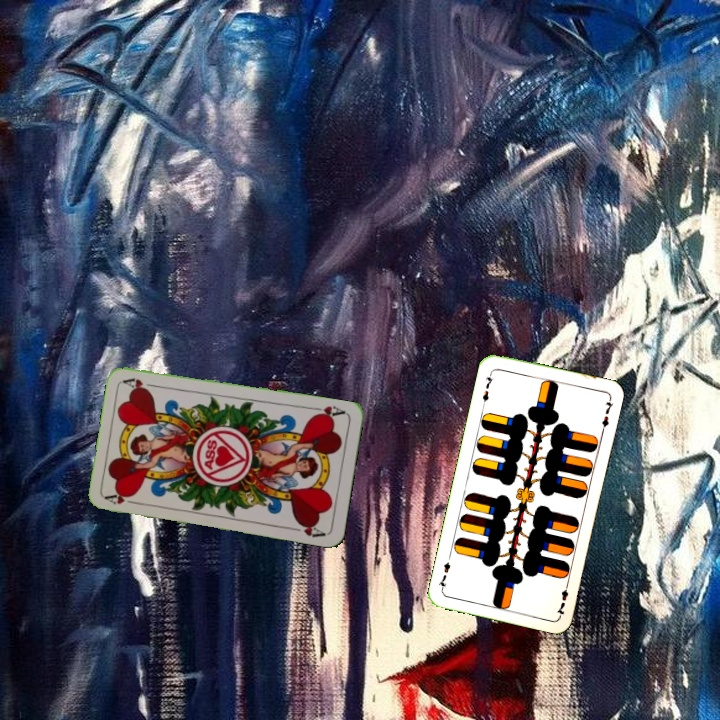E7: (478, 368, 496, 408), (553, 578, 571, 618)
HA: (308, 401, 348, 421), (102, 488, 142, 507)
